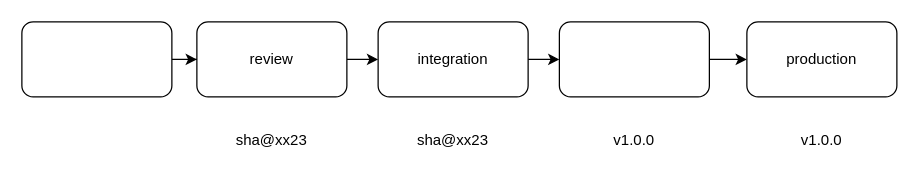
Some shapes in this 919 by 181 pixel diagram are drawn without their labels. Each missing label, with the centre of its shape:
"build" goes at point 96,59.
"release" goes at point 633,59.
